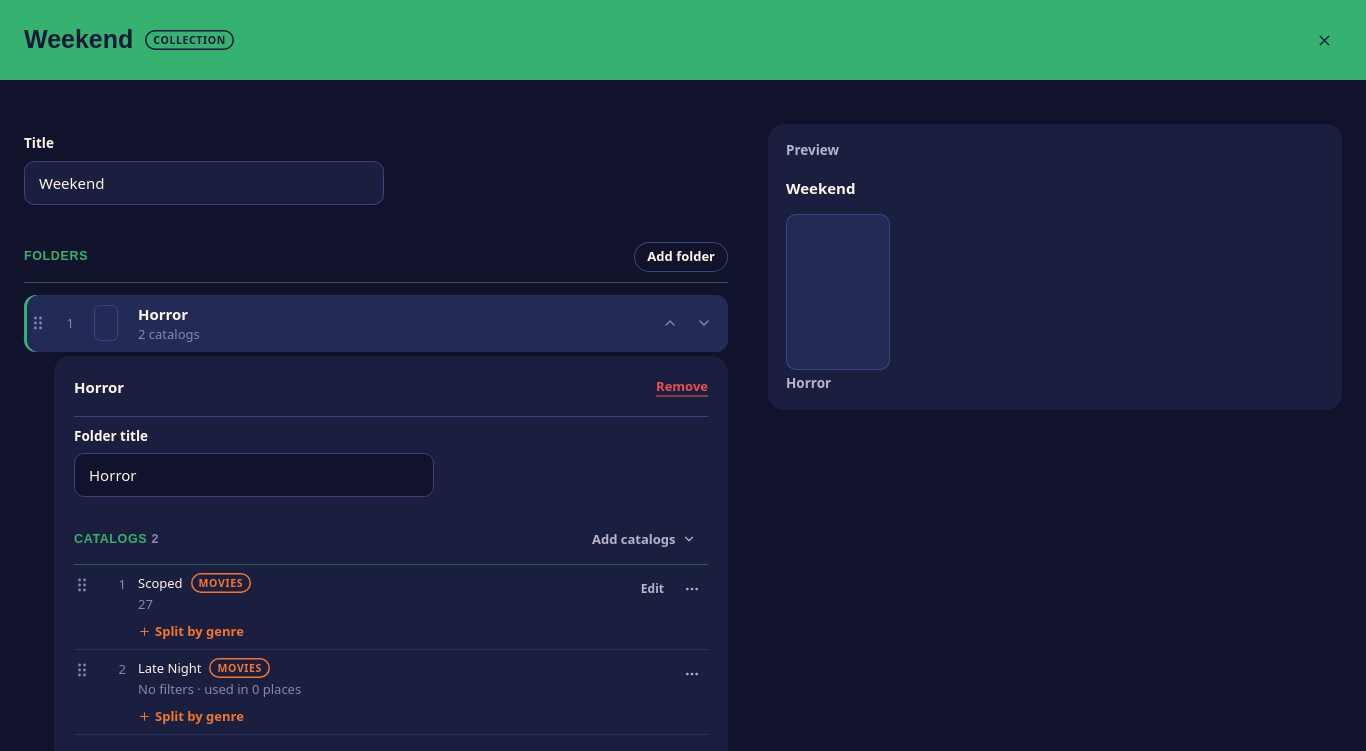
CollectionEditor › Copy into library › writes a library copy of the catalog as staged, at once, and says so in a toast
The image size is (1366, 751).
Click the button "Edit".
click(652, 589)  # box [633,574,672,604]
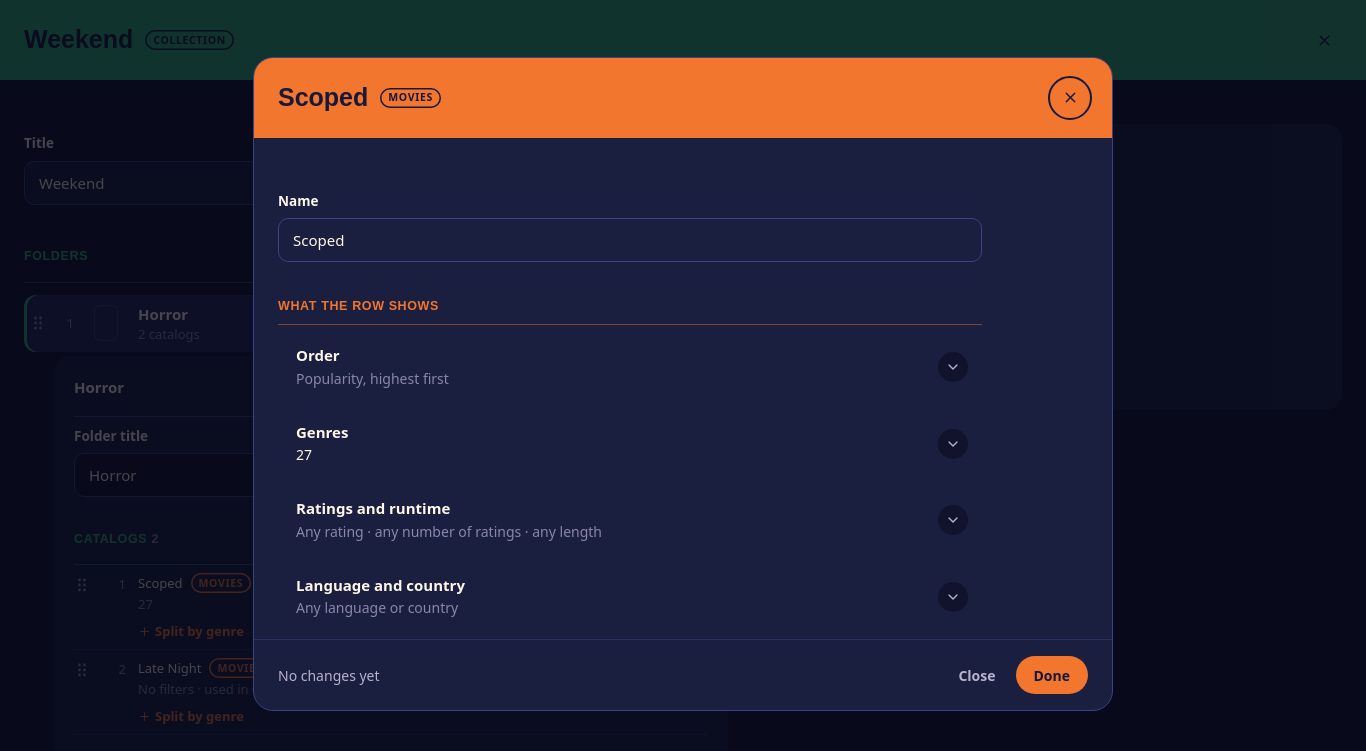
Replace the text in the field labelled "Name" with "Staged name" at (630, 240), box [278,218,982,262]
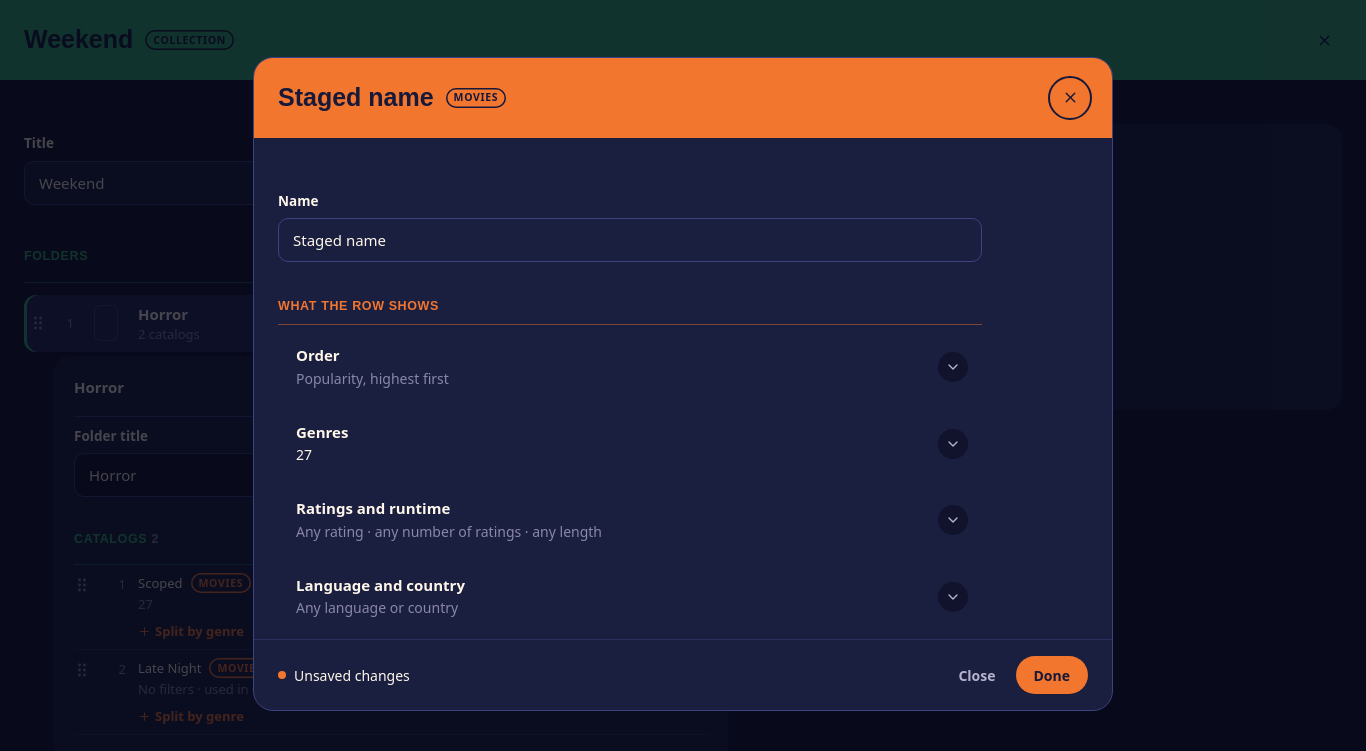
Click the button "Done".
click(1052, 675)  # box [1016,656,1088,694]
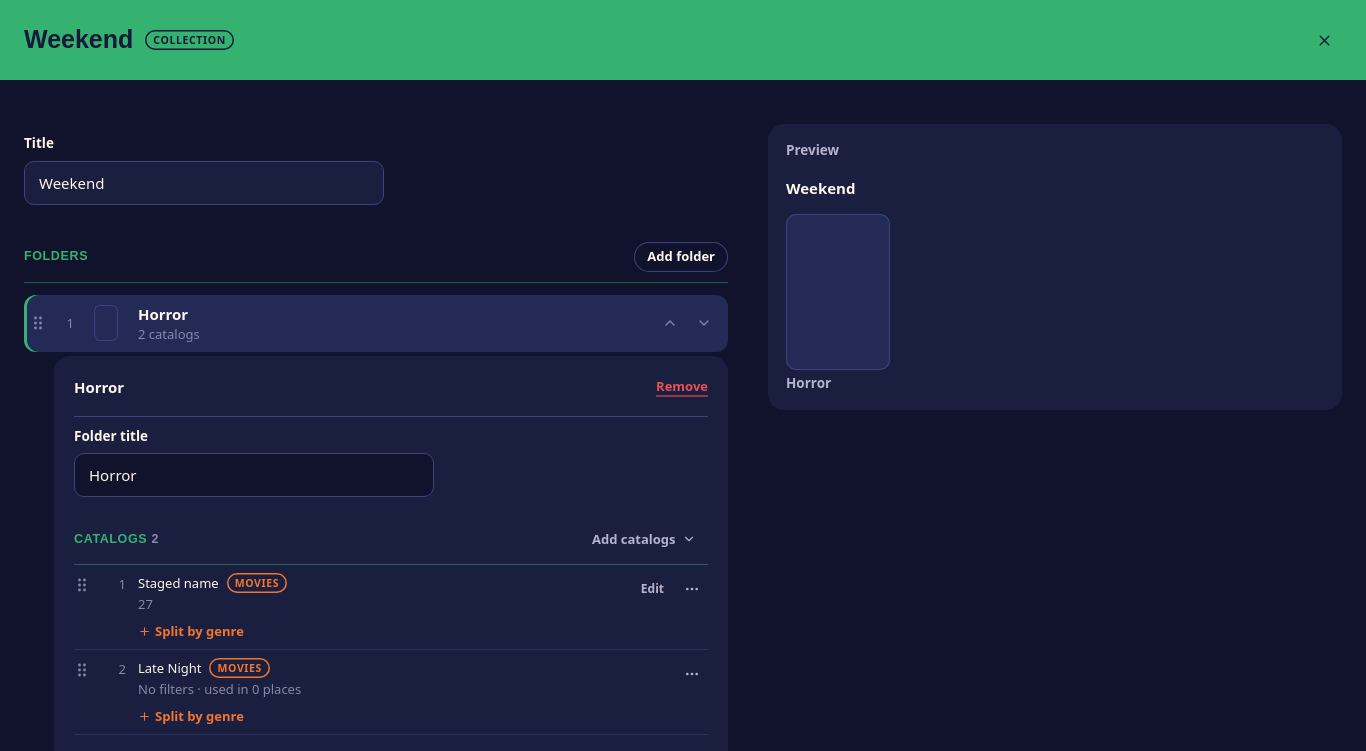
Press the mouse on the button named "More for Staged name" at (692, 589), box [676,573,708,605]
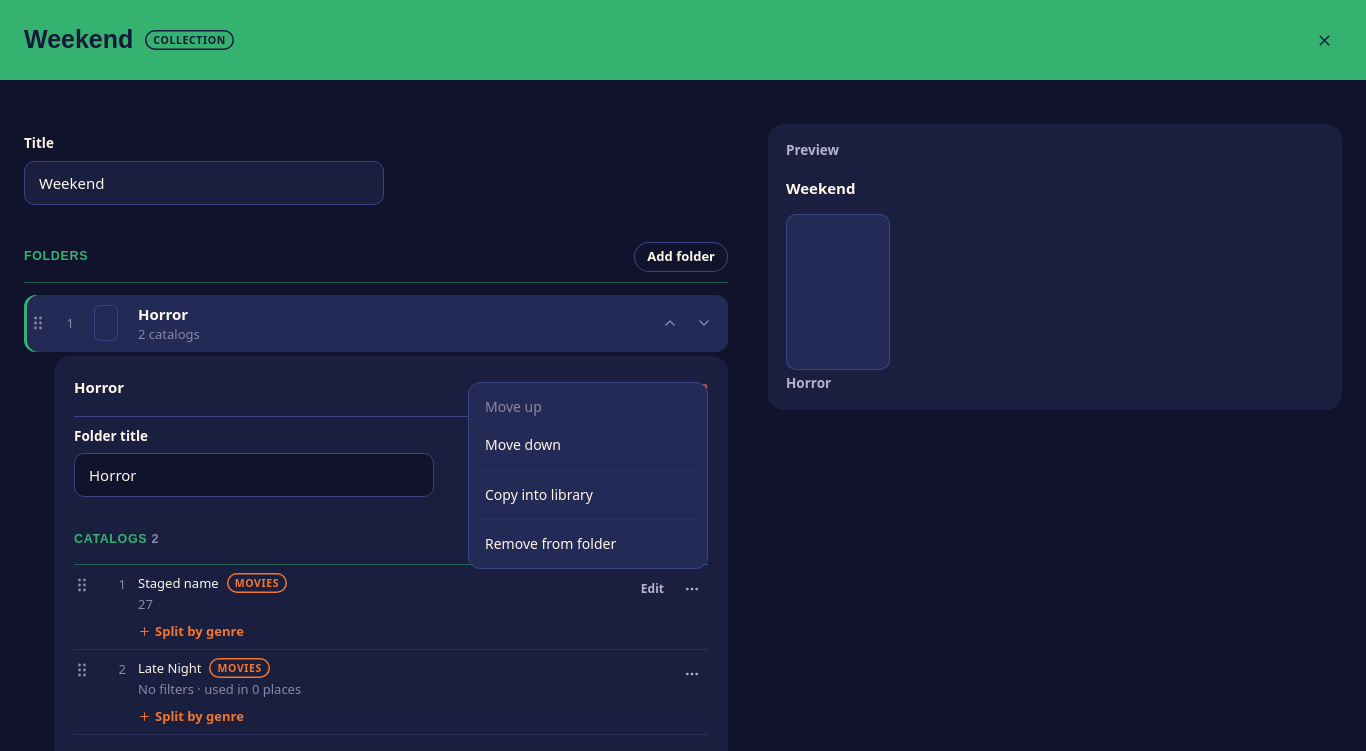
Click the menu item "Copy into library".
click(539, 494)  # box [485,485,593,504]
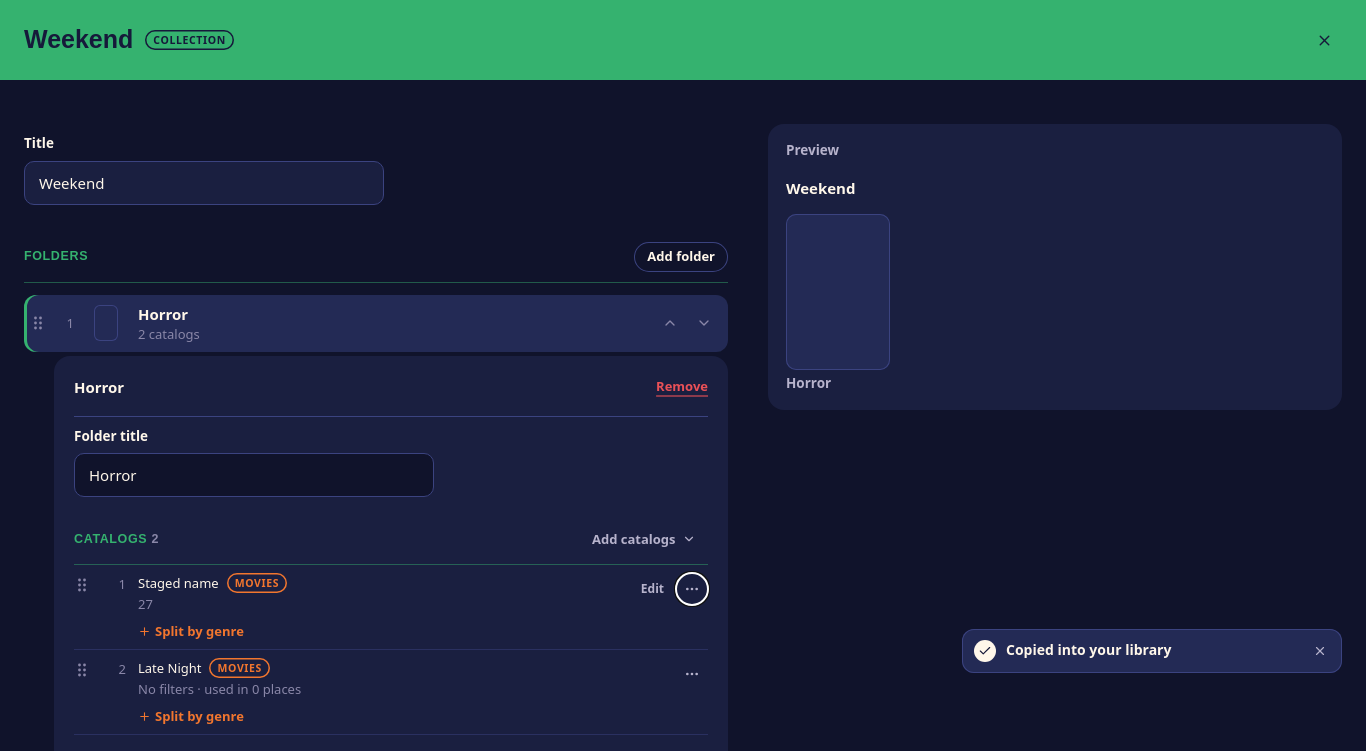
Expected: the text "Copied into your library" is shown, [1006,640,1171,659]
